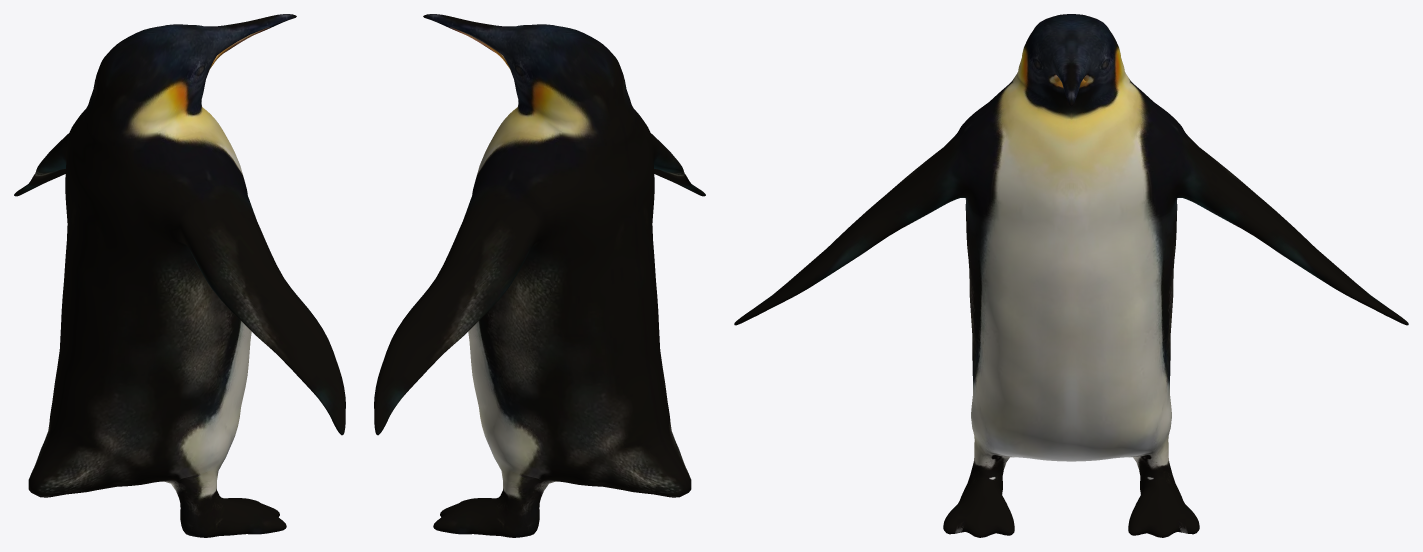
Rendered from penguin.glb.
3 renders of one model, left to right at view 1: azimuth 30°, elevation 25°; view 2: azimuth 150°, elevation 25°; view 3: azimuth 270°, elevation 25°, orthographic. The views are drawn at different scales.
Visible parts, largest first — view 1: penguin; view 2: penguin; view 3: penguin.
Part boxes in pixels (box(x1,y1,x2,y2)): penguin: box(14, 14, 345, 537); penguin: box(374, 14, 705, 537); penguin: box(734, 14, 1408, 537).
Size of the model in its own units: 0.8844 by 1.5 by 1.89.
1 material, 1 textured.
